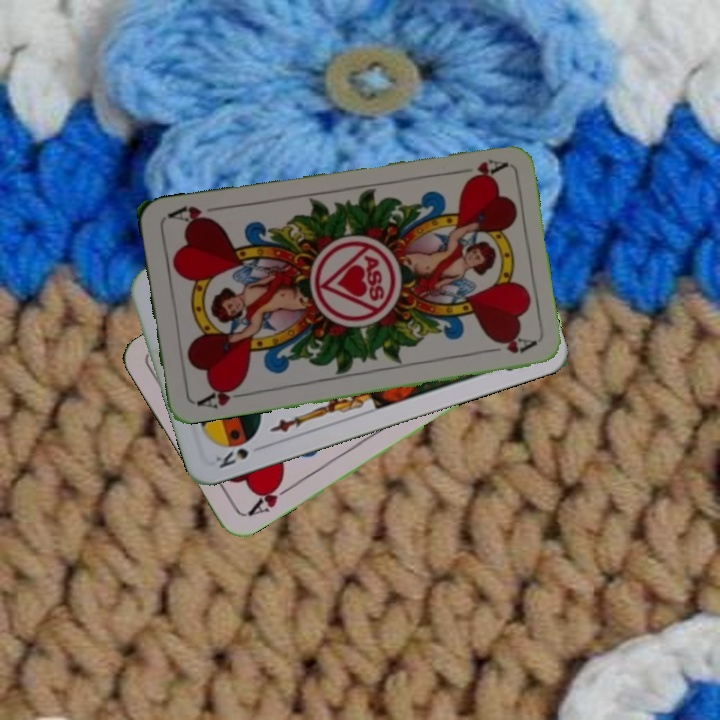HA: (243, 475, 295, 519), (192, 379, 250, 411), (449, 155, 508, 184)
SK: (211, 435, 255, 471)
